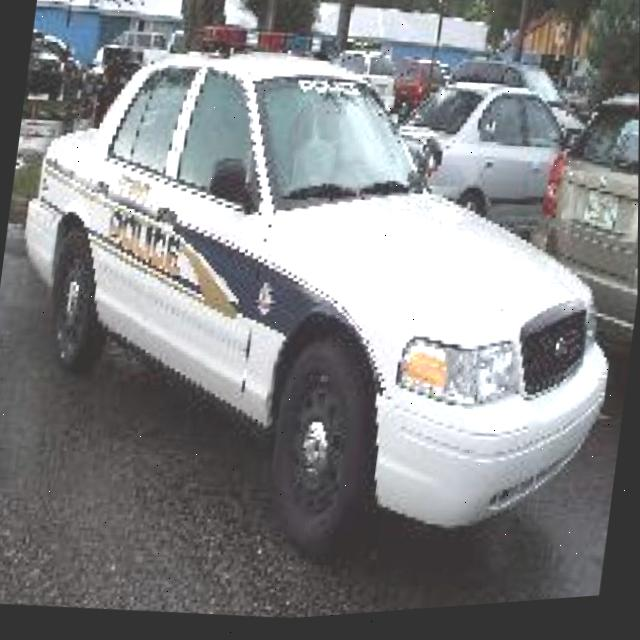emergency: (0, 0, 640, 612)
